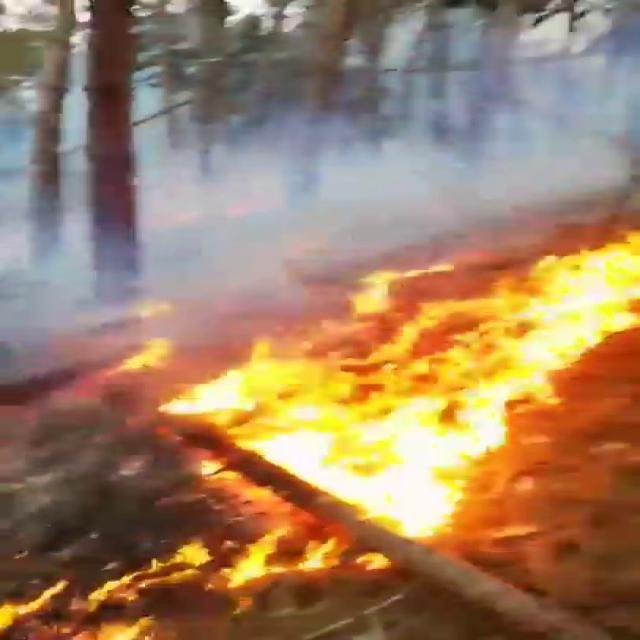Fire: (70, 219, 639, 562)
Smoke: (135, 0, 640, 309)
